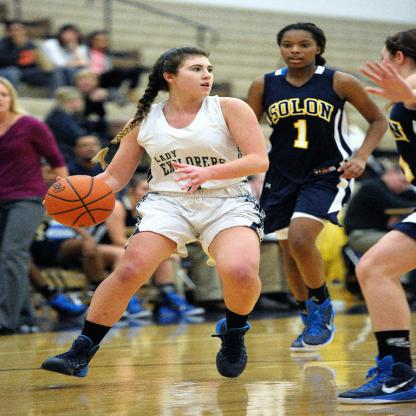Ball: (46, 174, 116, 228)
